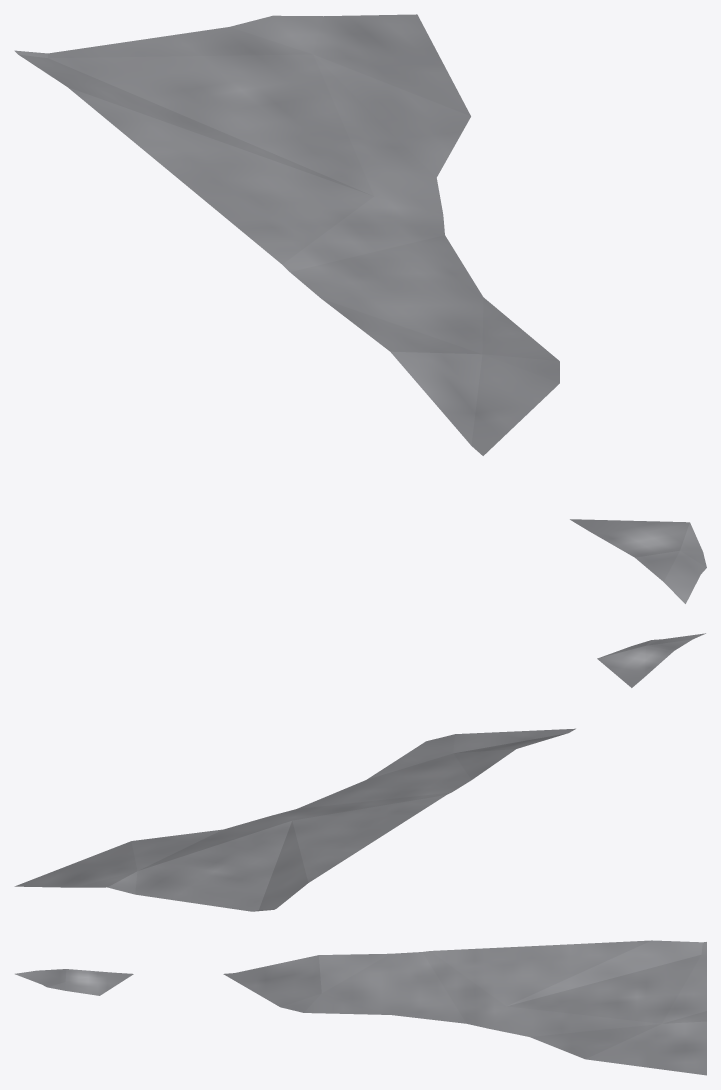
3 renders of one model, top to bottom at view 1: azimuth 30°, elevation 25°; view 2: azimuth 150°, elevation 25°; view 3: azimuth 270°, elevation 25°, orthographic. The views are drawn at different scales.
Bounding box in the file's own units: 0.3232 × 0.0497 × 0.9319.
Materials: 1 (1 with a texture image).
